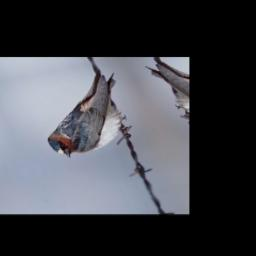Swallow: (19, 67, 151, 160)
